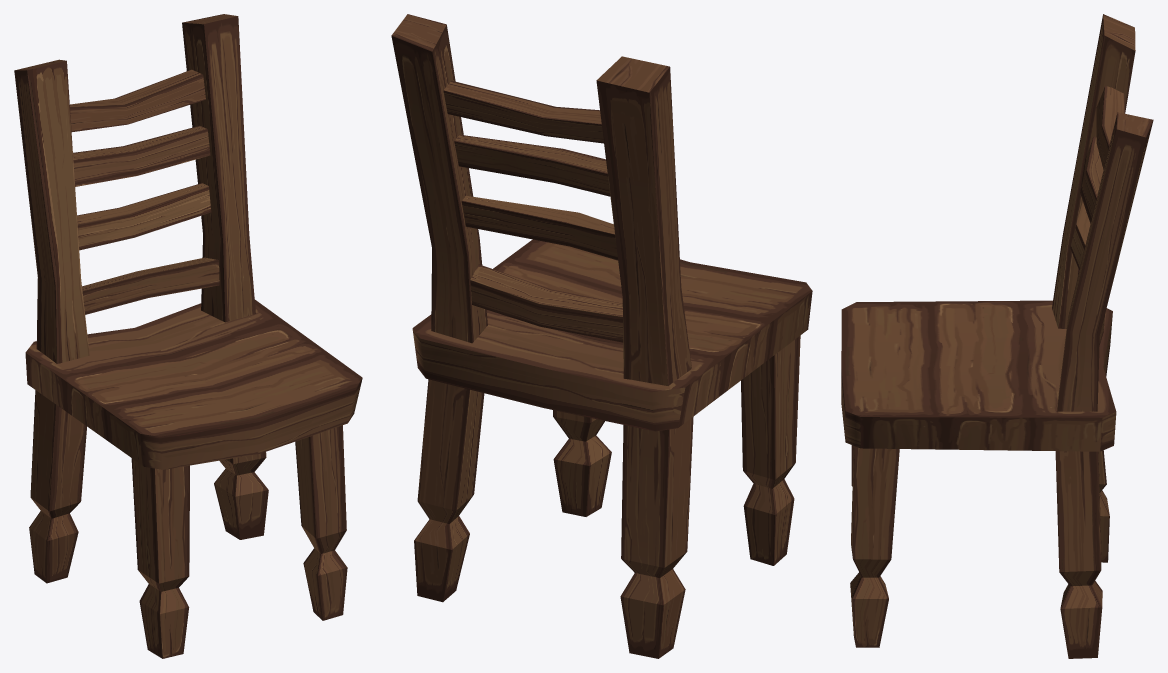
Rendered from SM_PROP_chair_interior_01.fbx.
3 renders of one model, left to right at view 1: azimuth 30°, elevation 25°; view 2: azimuth 150°, elevation 25°; view 3: azimuth 270°, elevation 25°, orthographic. The views are drawn at different scales.
Visible parts, largest first — view 1: SM_PROP_chair_interior_01; view 2: SM_PROP_chair_interior_01; view 3: SM_PROP_chair_interior_01.
Boxes of the visible parts, x1=… form: SM_PROP_chair_interior_01: x1=14, y1=14, x2=362, y2=658; SM_PROP_chair_interior_01: x1=391, y1=14, x2=812, y2=658; SM_PROP_chair_interior_01: x1=841, y1=14, x2=1153, y2=658.
Bounding box in the file's own units: 51.83 × 110 × 58.37.
